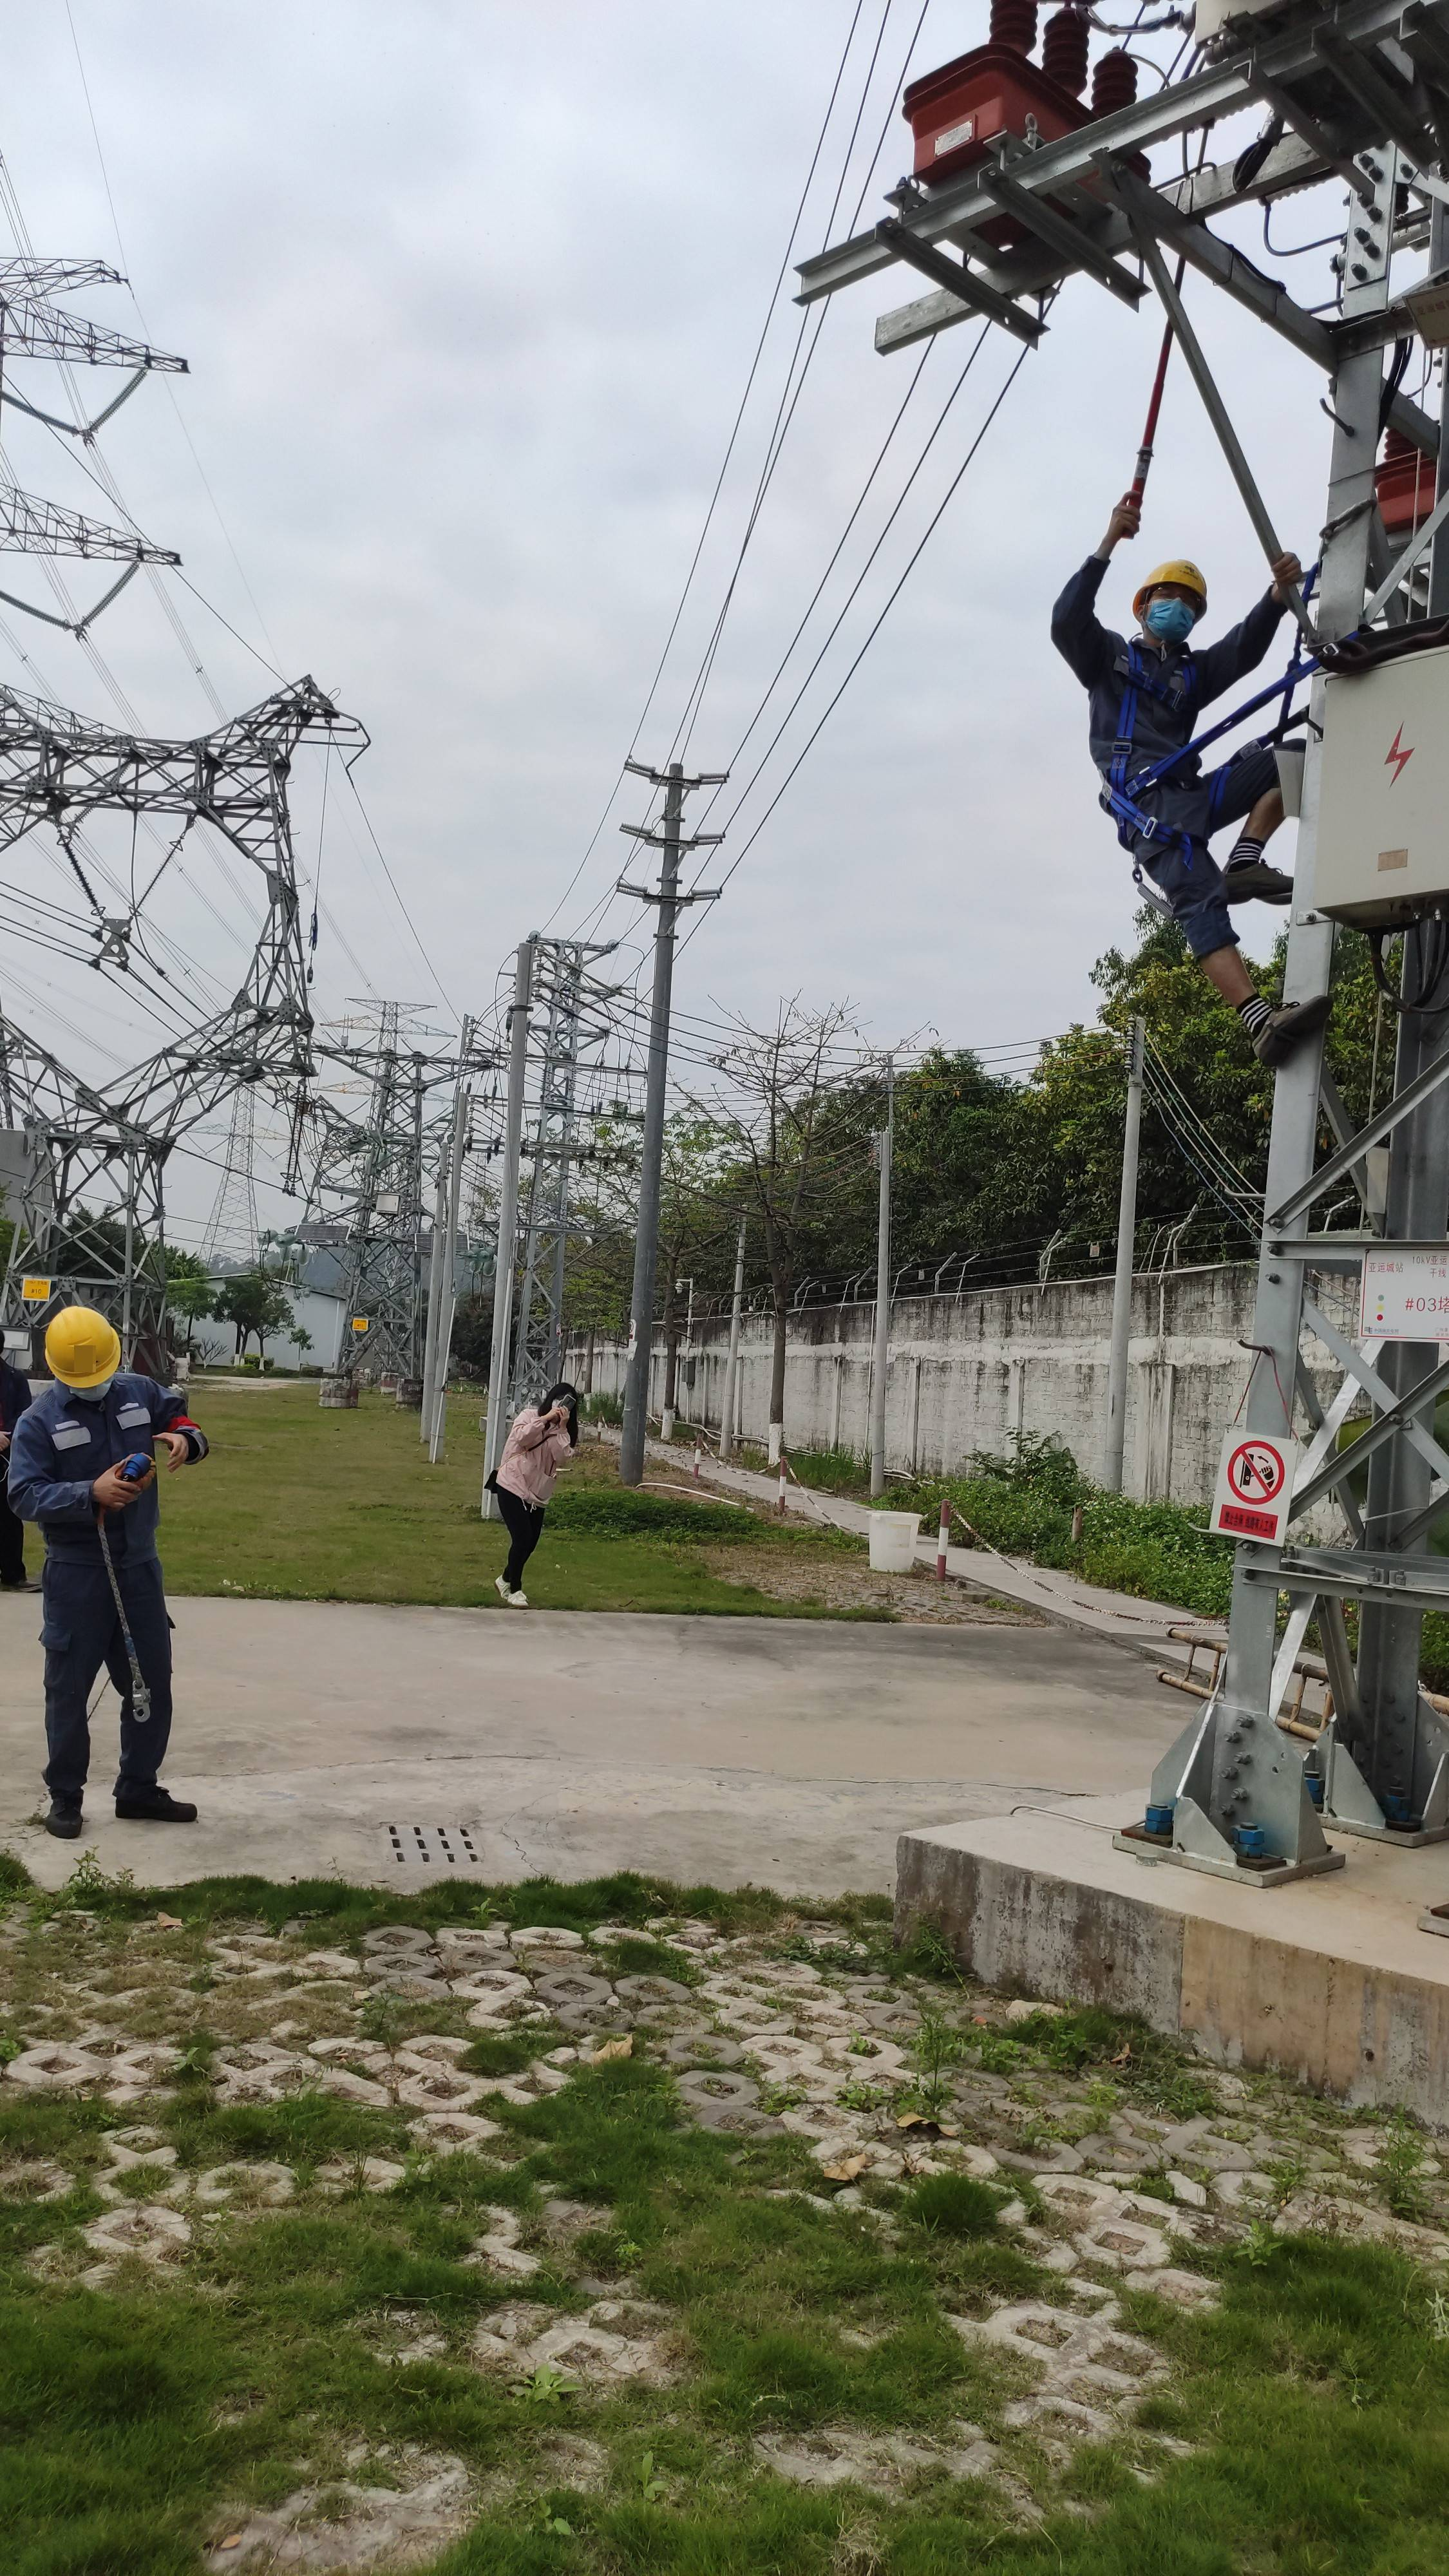downcloth: (497, 1499, 545, 1587)
downsuit: (1122, 755, 1288, 977), (41, 1548, 177, 1808)
upcloth: (499, 1412, 579, 1497)
upsuit: (1051, 566, 1221, 771), (14, 1376, 191, 1548)
wrongbottom: (1184, 906, 1261, 1030), (1237, 777, 1290, 849)
